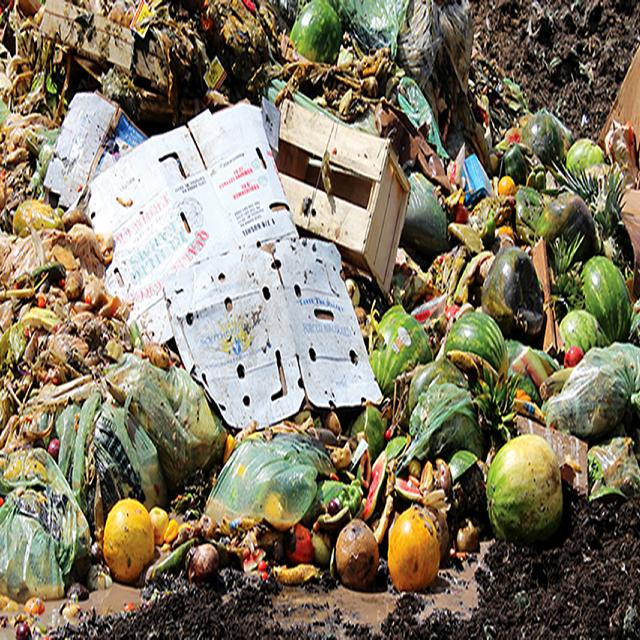Wet: (492, 432, 562, 535), (490, 238, 544, 330), (440, 298, 499, 372), (580, 256, 631, 337), (100, 499, 155, 574), (391, 510, 440, 584), (292, 0, 350, 60), (337, 515, 379, 597), (523, 111, 568, 166)
